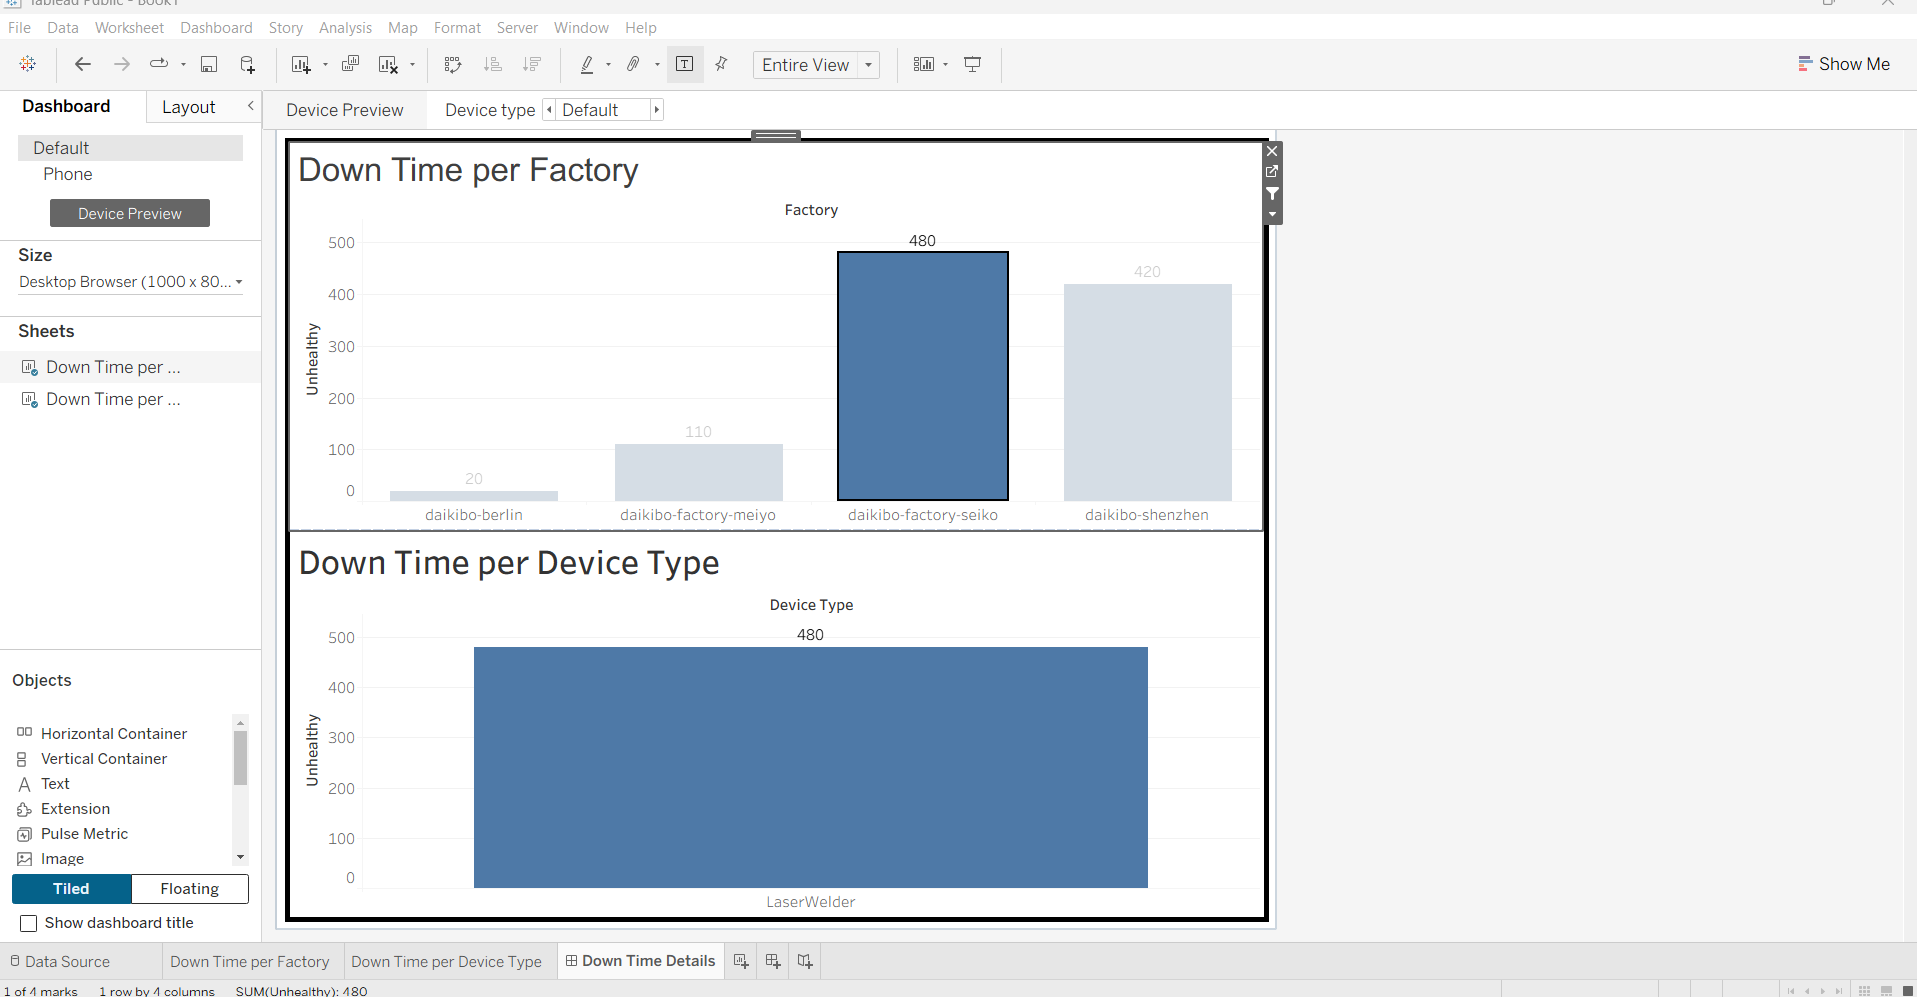

This screenshot's page, from the dashboard's own definition file:
{"tool":"tableau","page":{"name":"Down Time Details","canvas":[1000,800],"ordinal":0},"visuals":[{"type":"worksheet","title":"Down Time per Factory","mark":"Bar","rows":["Calculation_2779879179292672"],"cols":["factory"],"box":[13,13,974,387]},{"type":"worksheet","title":"Down Time per Device Type","mark":"Automatic","rows":["Calculation_2779879179292672"],"cols":["deviceType"],"box":[13,400,974,387]}]}

Visuals, with their boxes on the page's 1000x800 design canvas (x1, y1, x2, y2). These are canvas units, not pixel positions in the 1917x997 screenshot, which may show the page scaled, cropped or inside an application window:
"Down Time per Factory" worksheet (Bar marks): bbox(13, 13, 987, 400)
"Down Time per Device Type" worksheet: bbox(13, 400, 987, 787)
